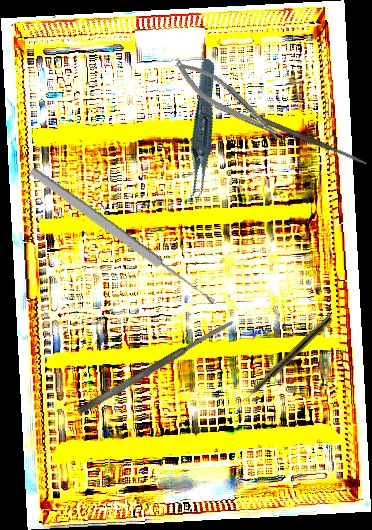Handpiece: (234, 313, 334, 410)
Needle Holder: (169, 51, 288, 152)
Spatula Surgical: (75, 317, 237, 417), (248, 111, 369, 168)
Surgical Spoon: (27, 165, 218, 308)
Tissue Forceps: (155, 57, 244, 207)
